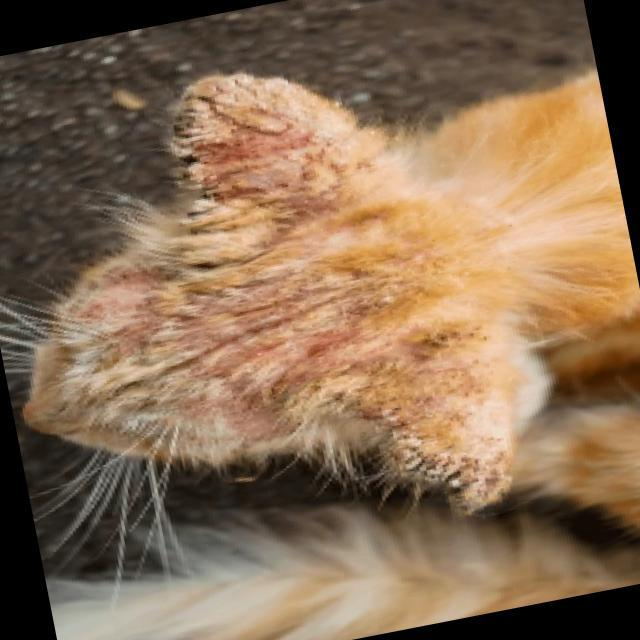Mange: (381, 417, 533, 527), (145, 88, 284, 200), (76, 270, 159, 330), (167, 391, 281, 434)
